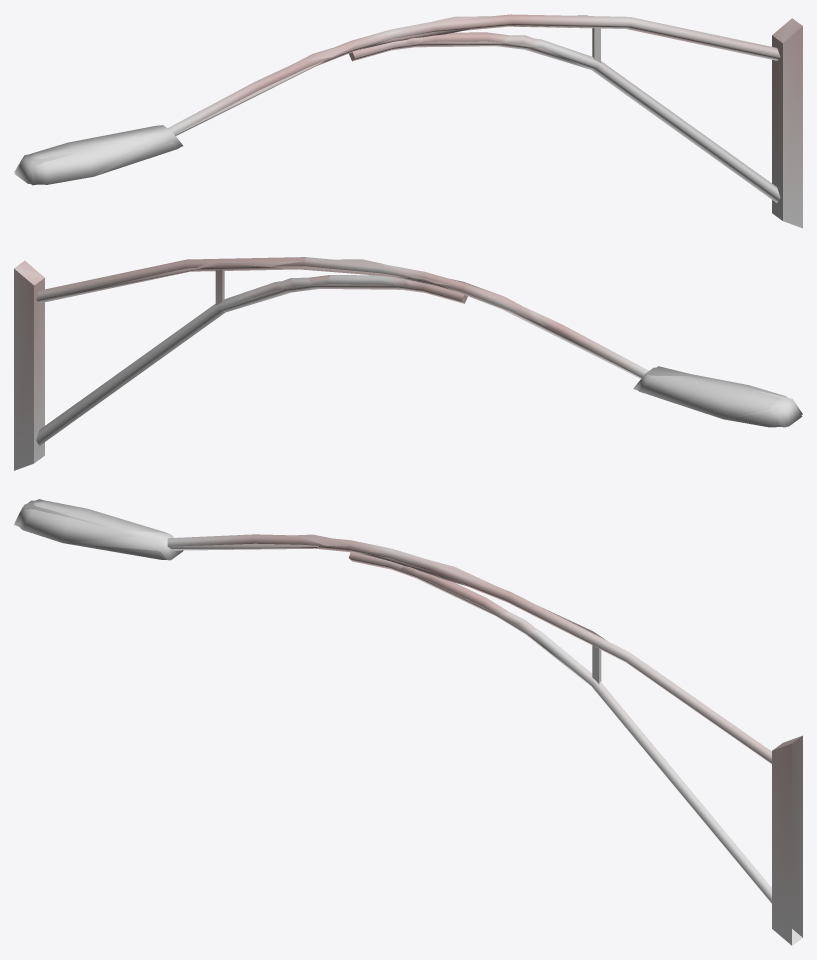
The model's file is electrical_pole_lamp.dae.
3 renders of one model, top to bottom at view 1: azimuth 30°, elevation 25°; view 2: azimuth 150°, elevation 25°; view 3: azimuth 330°, elevation 25°, orthographic.
Visible parts, largest first — view 1: electrical_pole_lamp_a200, electrical_pole_lamp_a100; view 2: electrical_pole_lamp_a200, electrical_pole_lamp_a100; view 3: electrical_pole_lamp_a200, electrical_pole_lamp_a100.
Part boxes in pixels (bbox=[...]): electrical_pole_lamp_a200: bbox=[15, 14, 802, 228]; electrical_pole_lamp_a100: bbox=[14, 15, 776, 185]; electrical_pole_lamp_a200: bbox=[14, 257, 802, 470]; electrical_pole_lamp_a100: bbox=[38, 259, 802, 427]; electrical_pole_lamp_a200: bbox=[15, 500, 802, 945]; electrical_pole_lamp_a100: bbox=[14, 499, 771, 806].
Size of the model in its own units: 2.93 by 0.2053 by 1.06.
